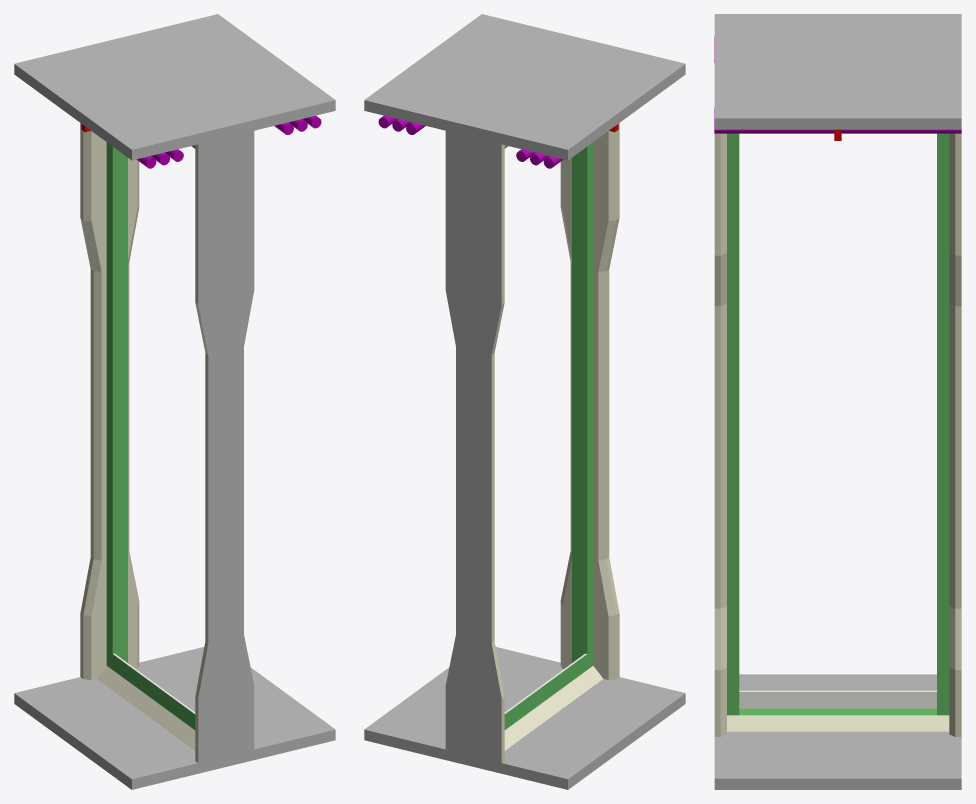
File: WallBase_WallSpace_PipesA.fbx
3 renders of one model, left to right at view 1: azimuth 30°, elevation 25°; view 2: azimuth 150°, elevation 25°; view 3: azimuth 270°, elevation 25°, orthographic. The views are drawn at different scales.
Parts seen in each view (by area): view 1: WallBase_WallSpace_PipesA.005; view 2: WallBase_WallSpace_PipesA.005; view 3: WallBase_WallSpace_PipesA.005.
Boxes of the visible parts, x1,y1,x2,y2 form: WallBase_WallSpace_PipesA.005: (14, 14, 335, 789); WallBase_WallSpace_PipesA.005: (364, 14, 685, 789); WallBase_WallSpace_PipesA.005: (714, 14, 961, 789).
Bounding box in the file's own units: 100 × 300 × 100.
